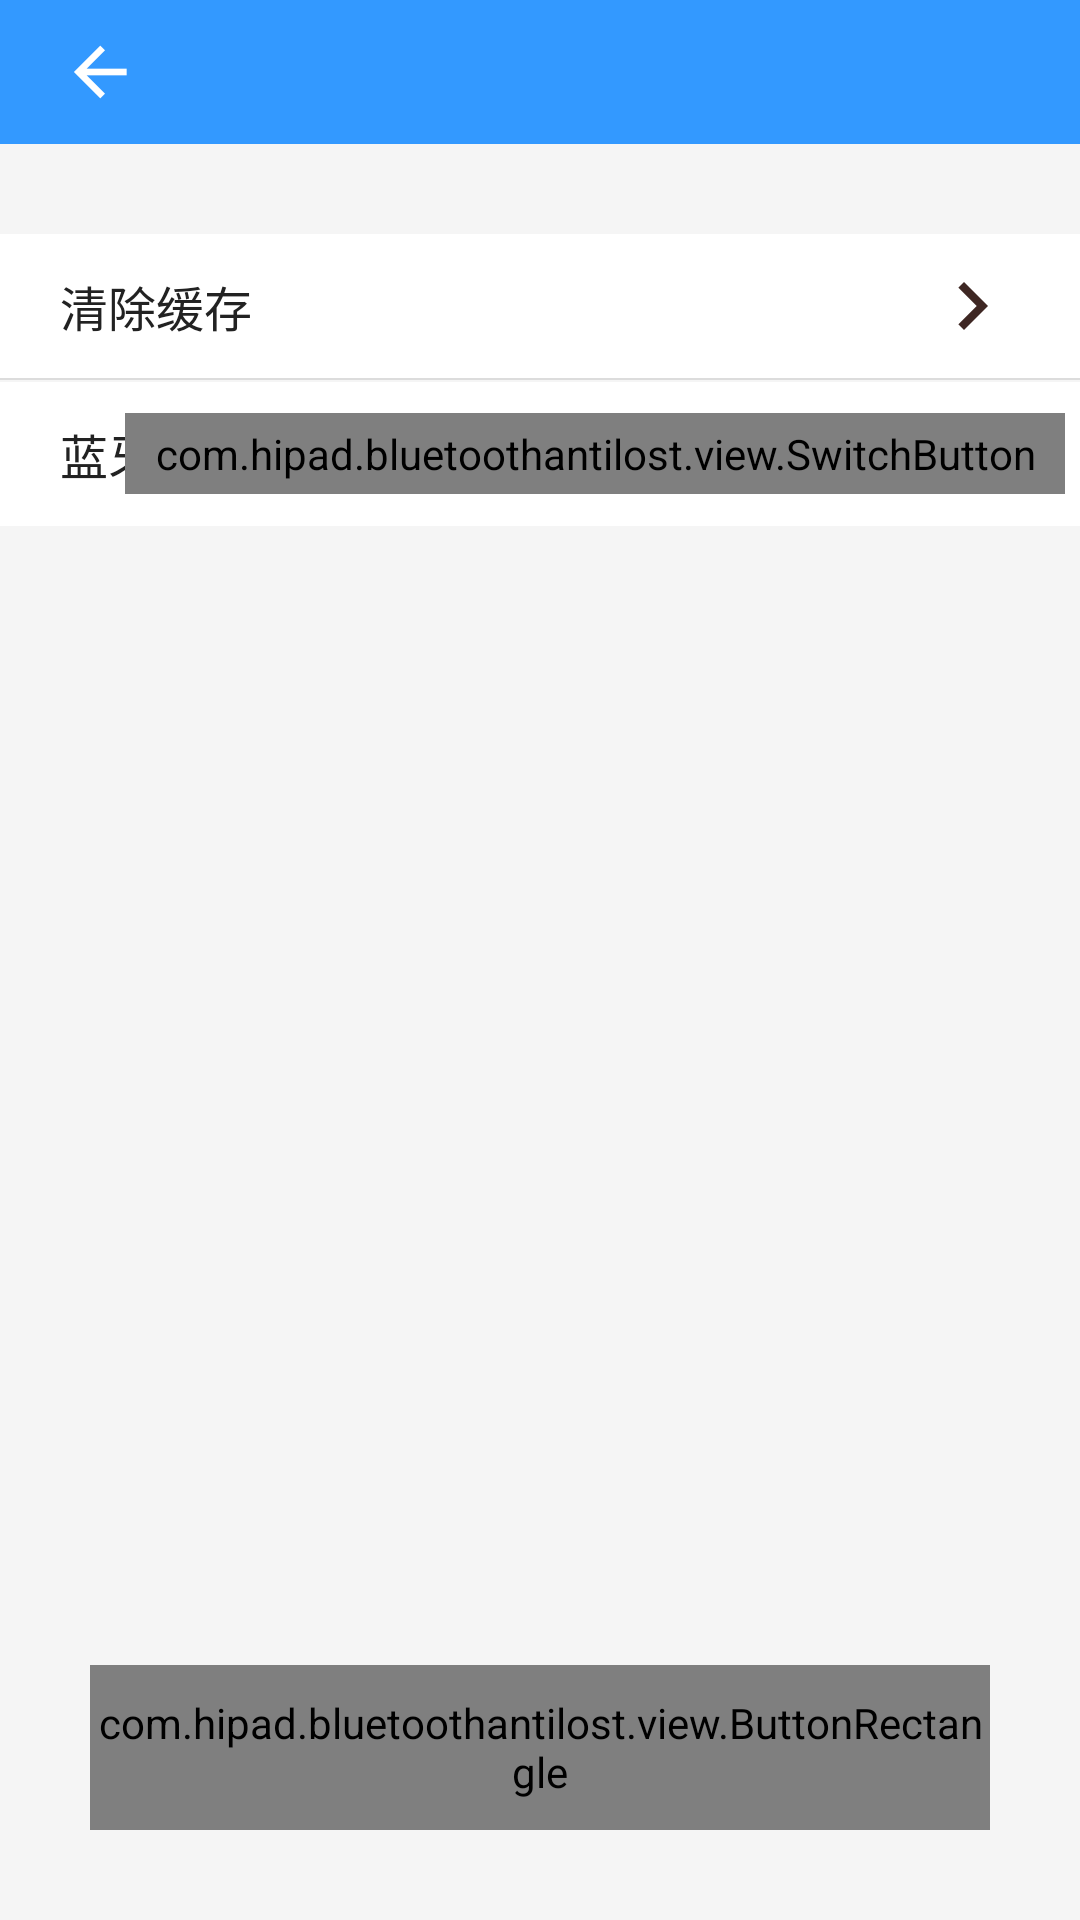

Icon click points for this 1080×1920 phone screenshot, format point (x, y):
back: point (100, 72)
chevron right: point (973, 306)
